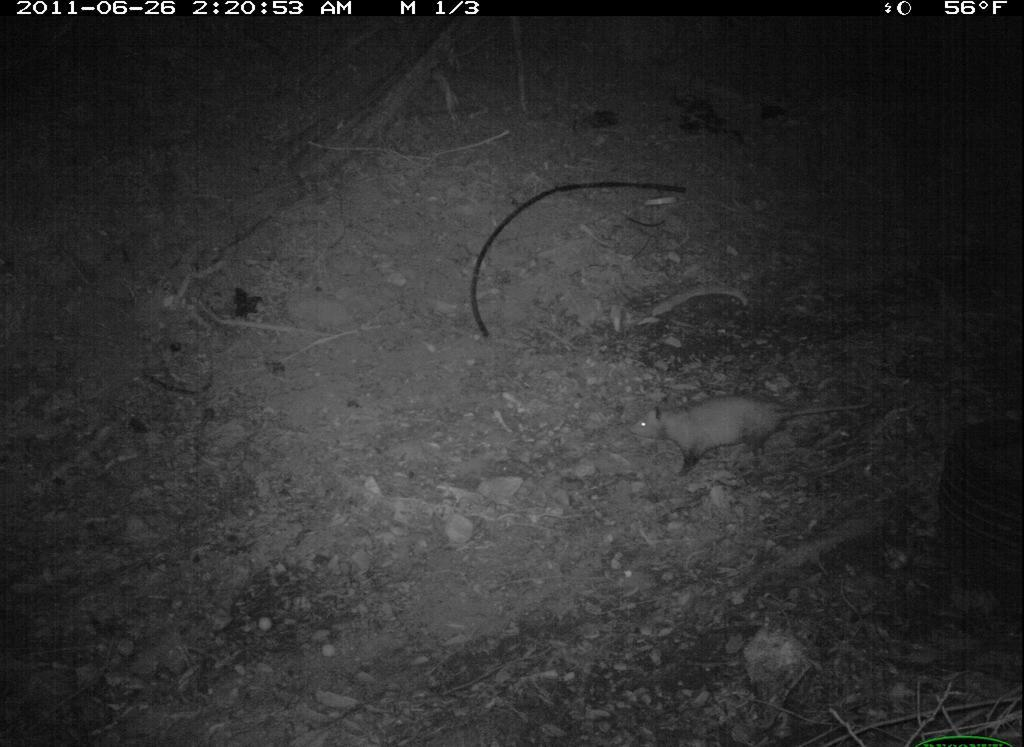opossum: (605, 374, 905, 500)
